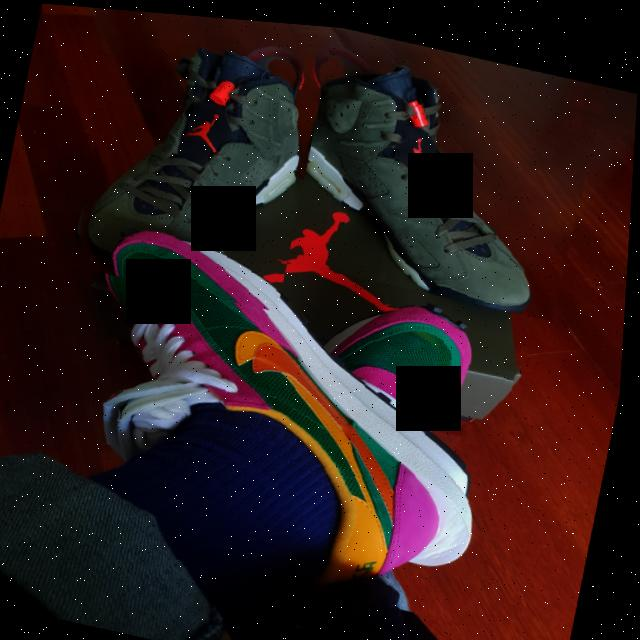shoe: (30, 199, 537, 618), (266, 23, 606, 315), (64, 5, 333, 309), (306, 263, 500, 433)
